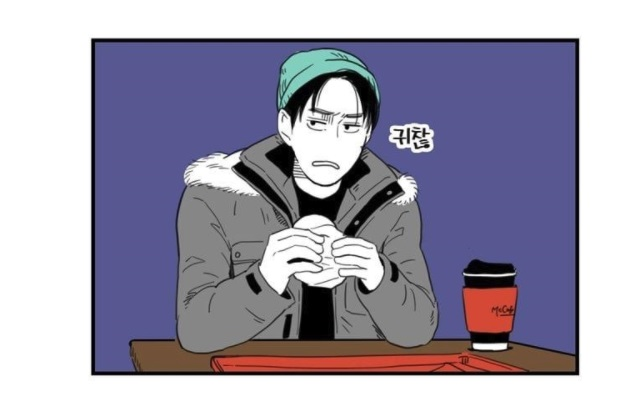coffee: (458, 251, 522, 352)
cup: (458, 256, 522, 353)
